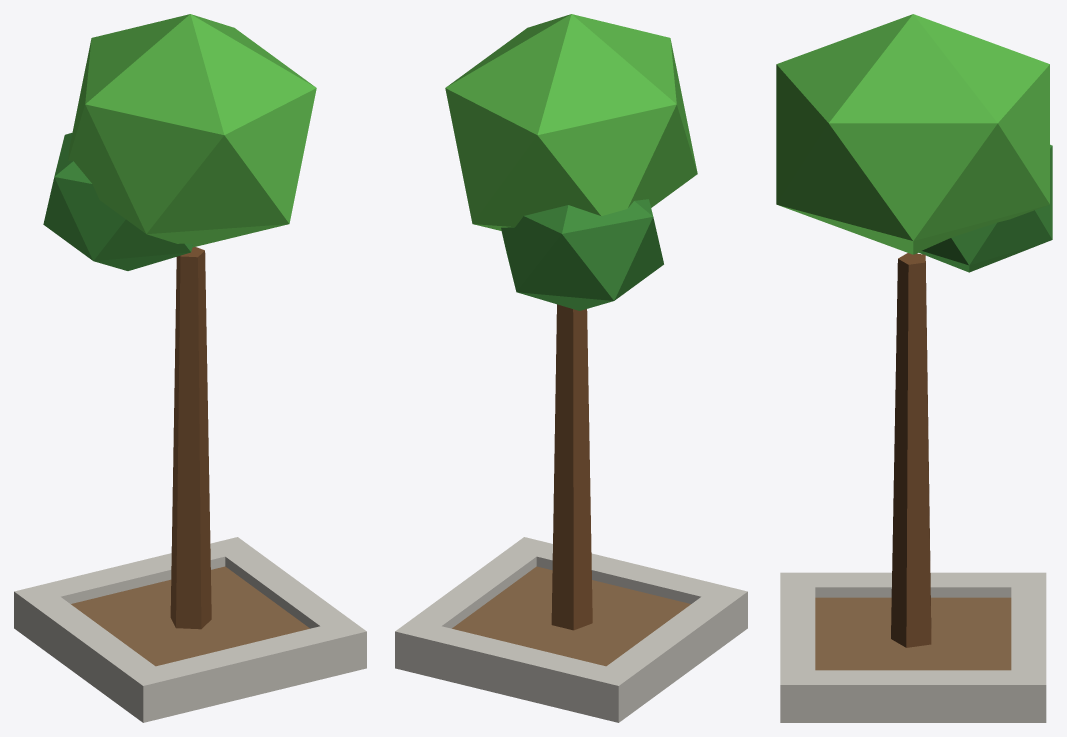
Rendered from arvore_pequena.glb.
3 renders of one model, left to right at view 1: azimuth 30°, elevation 25°; view 2: azimuth 150°, elevation 25°; view 3: azimuth 270°, elevation 25°, orthographic. The views are drawn at different scales.
Visible parts, largest first — view 1: corpo; view 2: corpo; view 3: corpo.
Part boxes in pixels (left/top/right/bottom): corpo: left=14, top=14, right=366, bottom=722; corpo: left=395, top=14, right=747, bottom=722; corpo: left=776, top=14, right=1052, bottom=722.
Size of the model in its own units: 0.19 by 0.515 by 0.1974.
